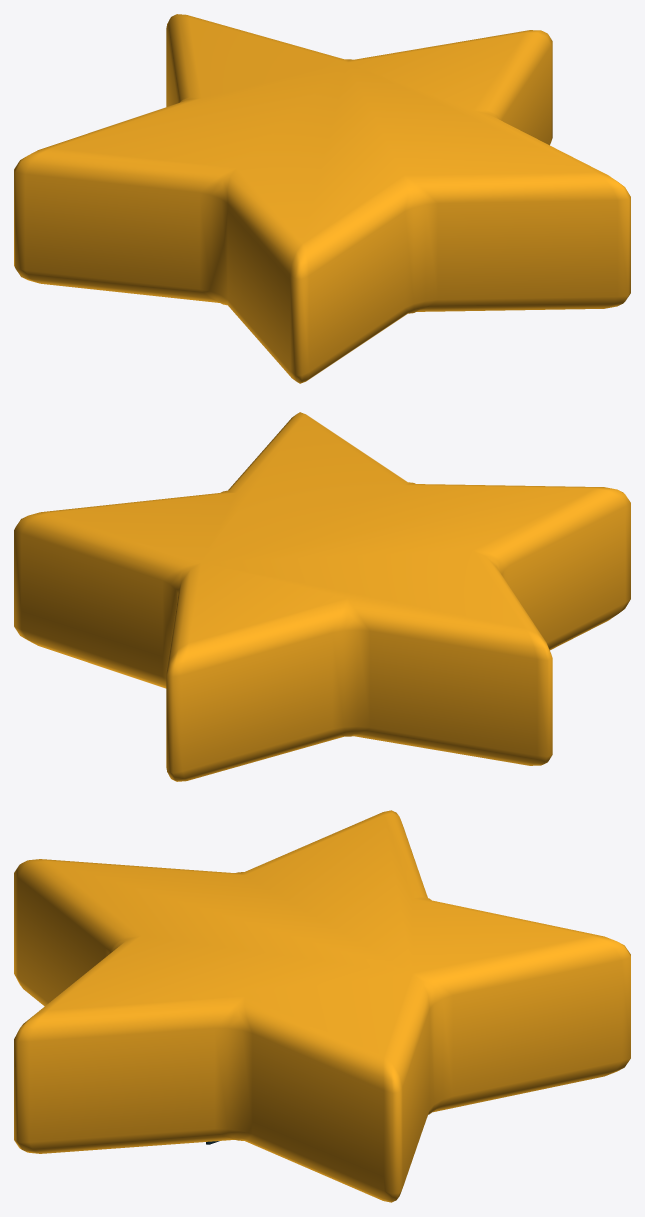
Rendered from BonusScoreStar.fbx.
The picture shows the model from 3 angles, top to bottom: view 1: azimuth 30°, elevation 25°; view 2: azimuth 150°, elevation 25°; view 3: azimuth 270°, elevation 25°; orthographic projection. The views are drawn at different scales.
Visible parts, largest first — view 1: BonusScoreStar; view 2: BonusScoreStar; view 3: BonusScoreStar.
Part boxes in pixels (bbox=[...]): BonusScoreStar: bbox=[14, 14, 630, 383]; BonusScoreStar: bbox=[14, 412, 630, 781]; BonusScoreStar: bbox=[14, 810, 630, 1202].
Bounding box in the file's own units: 0.6659 × 0.183 × 0.6333.
